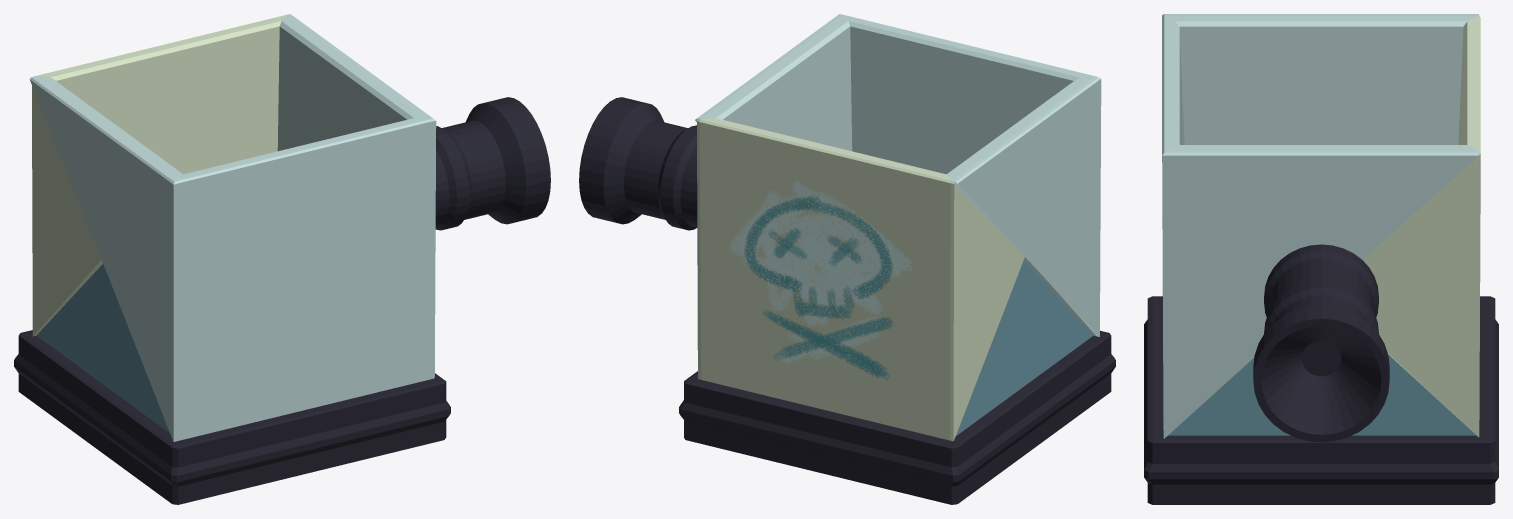
Rendered from scouttank 1.fbx.
3 views of the same model, side by side, from view 1: azimuth 30°, elevation 25°; view 2: azimuth 150°, elevation 25°; view 3: azimuth 270°, elevation 25° (orthographic). The views are drawn at different scales.
Visible parts, largest first — view 1: box, base, turret; view 2: box, base, turret; view 3: box, base, turret.
Part boxes in pixels (left/top/right/bottom): box: left=29, top=14, right=436, bottom=441; base: left=14, top=330, right=450, bottom=504; turret: left=435, top=97, right=550, bottom=230; box: left=695, top=14, right=1101, bottom=441; base: left=679, top=330, right=1115, bottom=504; turret: left=579, top=97, right=697, bottom=230; box: left=1162, top=14, right=1480, bottom=438; base: left=1144, top=296, right=1498, bottom=504; turret: left=1253, top=244, right=1389, bottom=442.
Size of the model in its own units: 790 by 561 by 517.
Materials: 2 (1 with a texture image).
